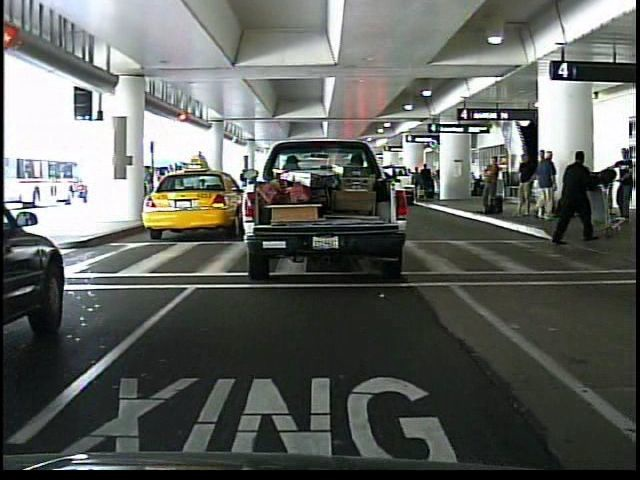person: (553, 145, 597, 244), (534, 148, 560, 224), (615, 145, 638, 224)
